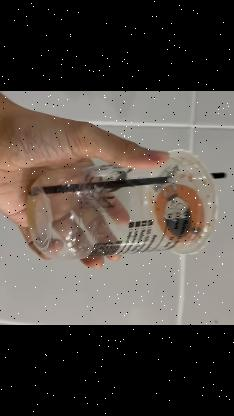Others: (23, 148, 216, 262)
